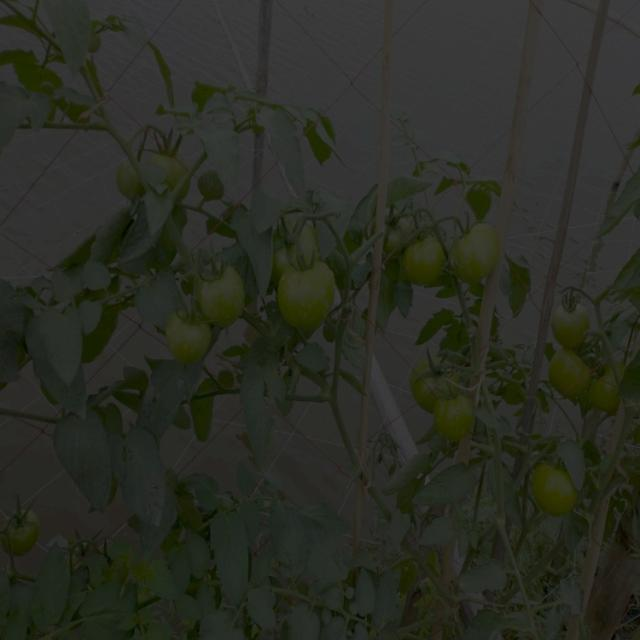tomato: (452, 227, 510, 287), (281, 266, 336, 328), (149, 142, 206, 200), (530, 462, 580, 514), (547, 300, 598, 348), (4, 500, 45, 559), (433, 393, 483, 438), (408, 234, 448, 286), (205, 276, 245, 326), (594, 364, 632, 411), (409, 353, 453, 389), (273, 228, 319, 262), (555, 351, 588, 397), (119, 154, 147, 204), (176, 315, 204, 357), (381, 206, 405, 250)
